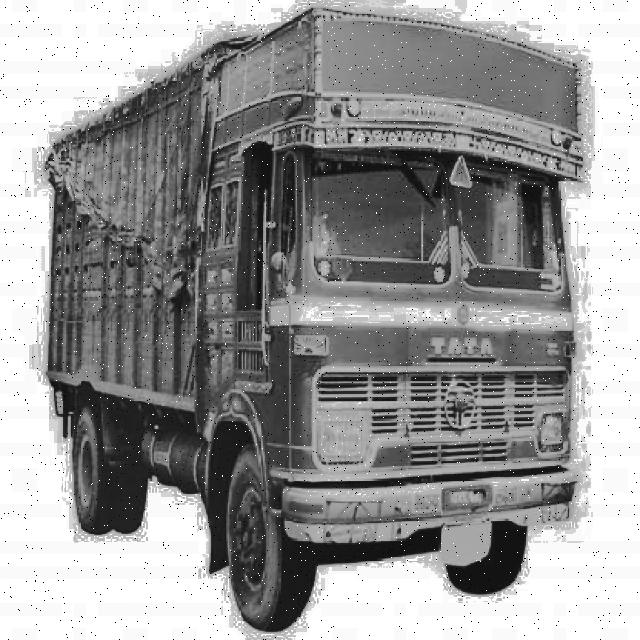HCV: (63, 119, 538, 568)
